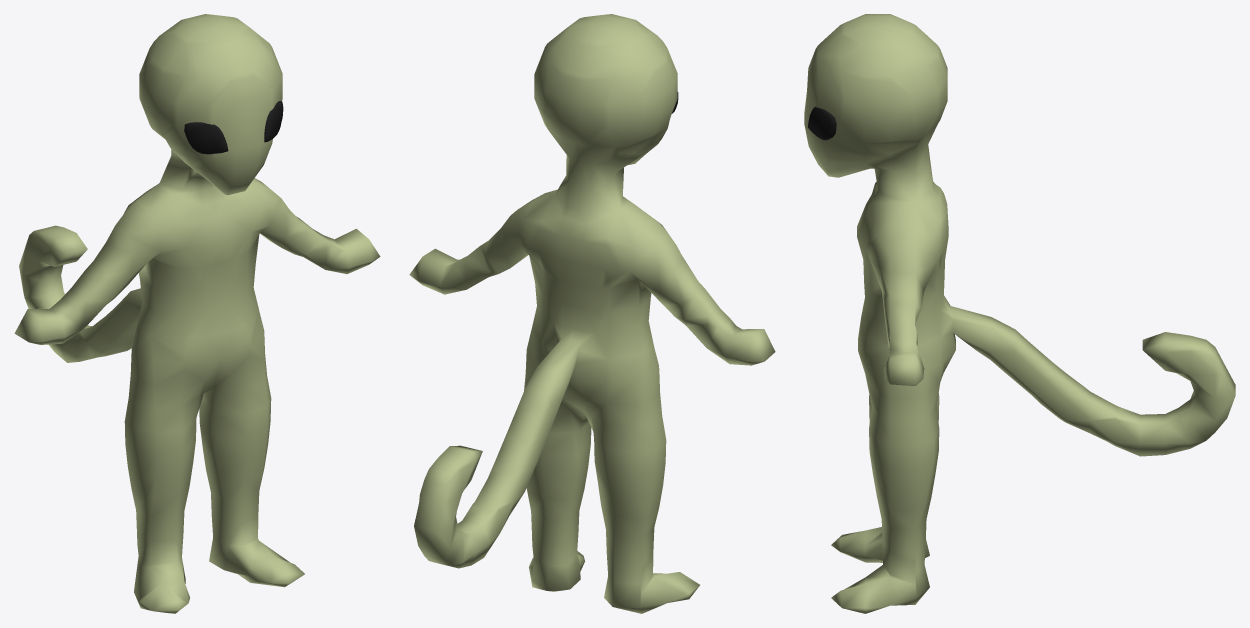
The model's file is alienComplete.fbx.
3 renders of one model, left to right at view 1: azimuth 30°, elevation 25°; view 2: azimuth 150°, elevation 25°; view 3: azimuth 270°, elevation 25°, orthographic.
Visible parts, largest first — view 1: Alien Complete; view 2: Alien Complete; view 3: Alien Complete.
Part boxes in pixels (box(x1,y1,x2,y2)): Alien Complete: box(14, 14, 380, 613); Alien Complete: box(409, 14, 775, 613); Alien Complete: box(804, 14, 1235, 613).
Bounding box in the file's own units: 12.34 × 13.14 × 18.76.
